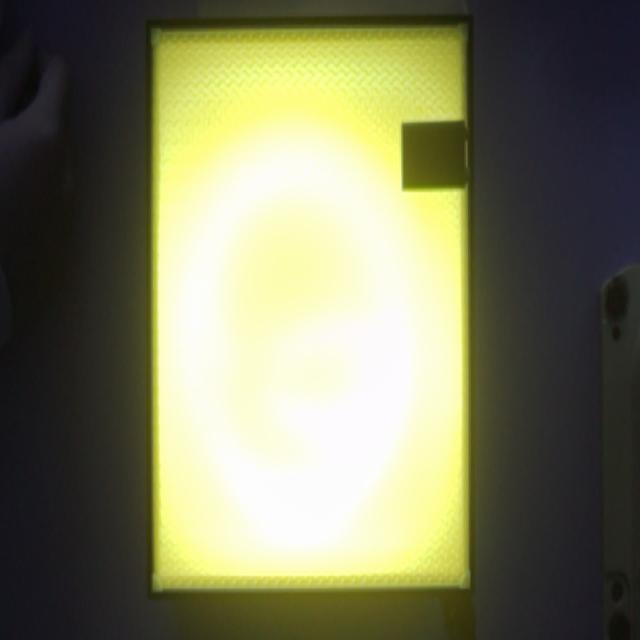bateria: (401, 119, 469, 190)
mesa: (147, 17, 474, 601)
